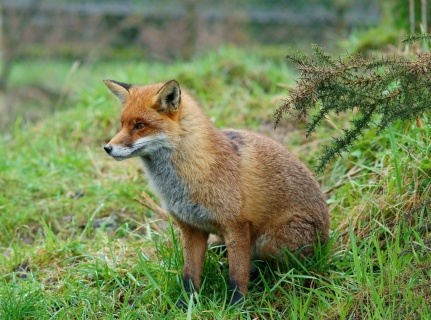Fox: (101, 78, 330, 308)
